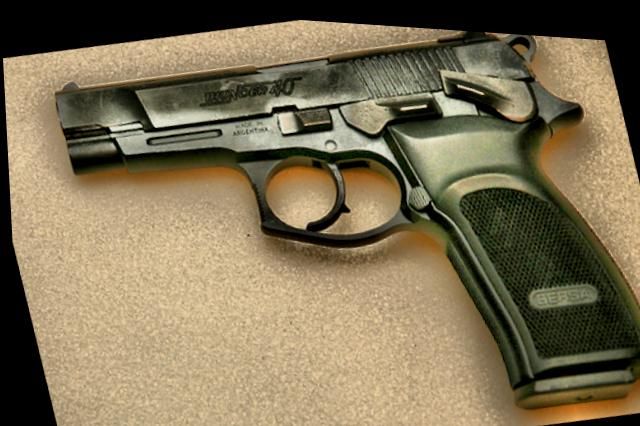pistol: (41, 2, 640, 426)
